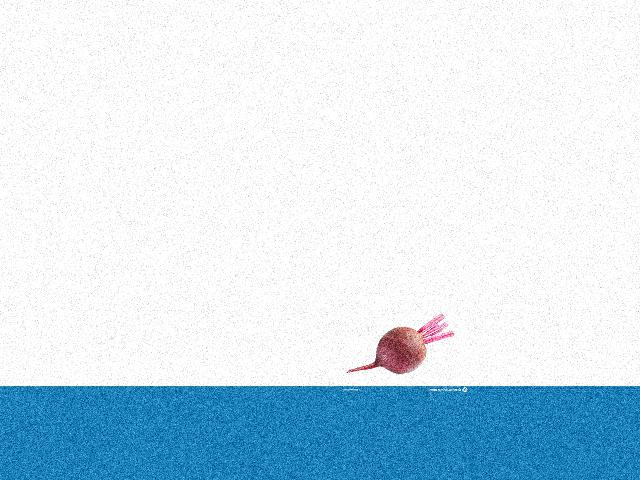beet: (347, 314, 453, 373)
